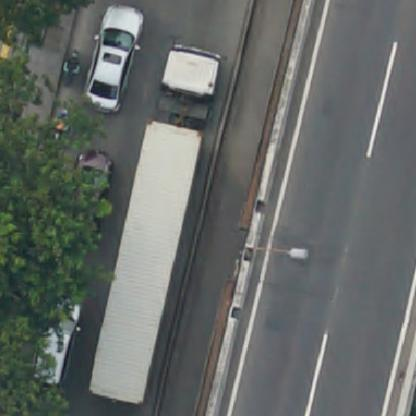car: (88, 5, 140, 106), (28, 299, 81, 388), (72, 153, 112, 208)
motorcycle: (62, 53, 82, 88), (53, 109, 72, 142)
truck: (92, 46, 222, 404)
